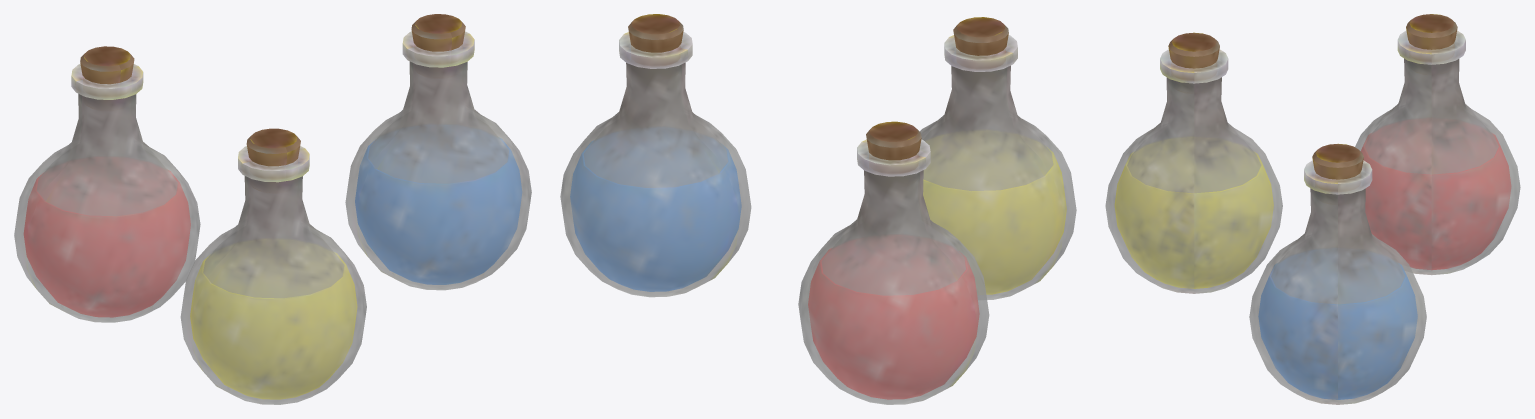
Rendered from potions.glb.
3 views of the same model, side by side, from view 1: azimuth 30°, elevation 25°; view 2: azimuth 150°, elevation 25°; view 3: azimuth 270°, elevation 25° (orthographic). The views are drawn at different scales.
Visible parts, largest first — view 1: bottle_v1_low.001_bottle_v1_txtr_0, fluid_v1_low.003_fluid_3_0, fluid_v1_low.002_fluid_2_0; view 2: bottle_v1_low.001_bottle_v1_txtr_0, fluid_v1_low.003_fluid_3_0, fluid_v1_low.002_fluid_2_0; view 3: bottle_v1_low.001_bottle_v1_txtr_0, fluid_v1_low.003_fluid_3_0, fluid_v1_low.002_fluid_2_0.
Boxes of the visible parts, bbox=[...] form: bottle_v1_low.001_bottle_v1_txtr_0: bbox=[14, 14, 531, 404]; fluid_v1_low.003_fluid_3_0: bbox=[355, 137, 521, 284]; fluid_v1_low.002_fluid_2_0: bbox=[24, 170, 190, 317]; bottle_v1_low.001_bottle_v1_txtr_0: bbox=[560, 14, 1076, 404]; fluid_v1_low.003_fluid_3_0: bbox=[570, 139, 741, 291]; fluid_v1_low.002_fluid_2_0: bbox=[808, 246, 979, 399]; bottle_v1_low.001_bottle_v1_txtr_0: bbox=[1105, 14, 1520, 404]; fluid_v1_low.003_fluid_3_0: bbox=[1258, 257, 1417, 399]; fluid_v1_low.002_fluid_2_0: bbox=[1361, 127, 1511, 269].
Bounding box in the file's own units: 5.46 × 2.9 × 4.68.
3 materials, 3 textured.
